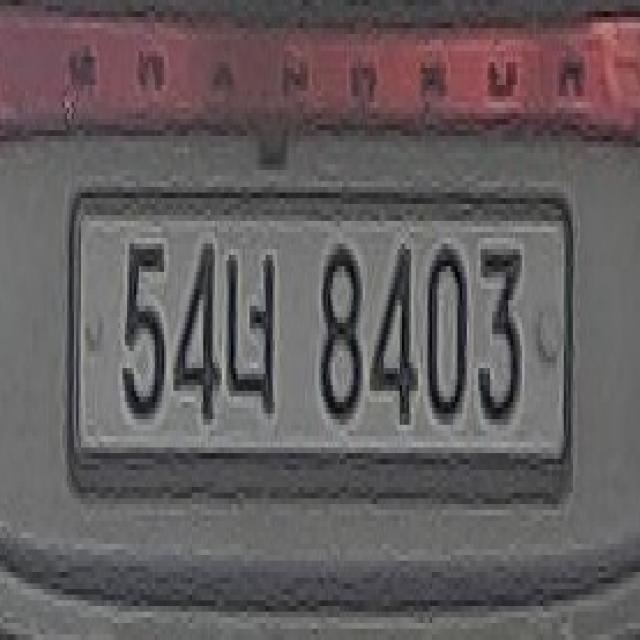0: (421, 226, 474, 464)
3: (474, 227, 529, 448)
4: (166, 210, 231, 453), (367, 221, 423, 453)
5: (113, 204, 176, 430)
8: (316, 227, 369, 430)
license_plate: (62, 181, 584, 504)
neo: (219, 227, 289, 419)
